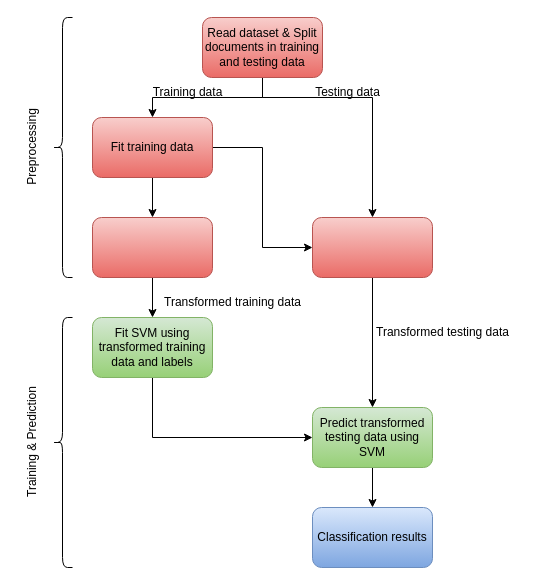
The diagram is 539 pixels wide and 585 high, and some of its shapes have lost their labels. The shapes that lost their labels are listed below. From the top down, each one's box as (x1, y1, x2, y2) in pixels, then its label:
(92, 216, 212, 278): Transform training data
(312, 216, 432, 278): Transform testing data
